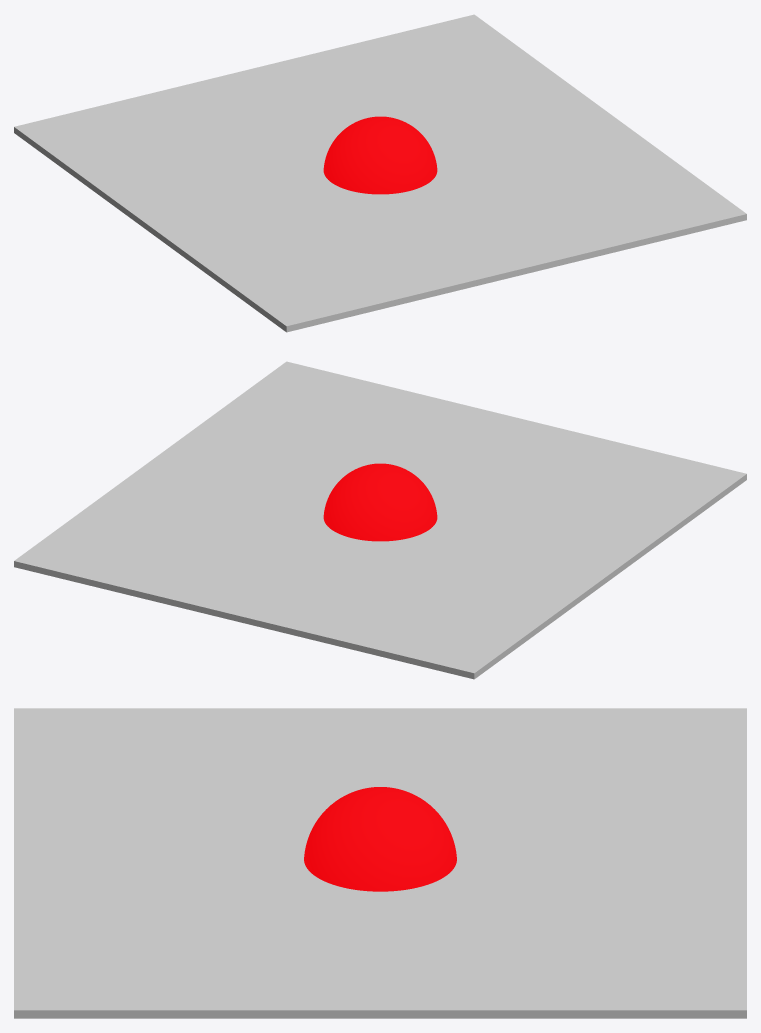
Rendered from Doom.glb.
The picture shows the model from 3 angles, top to bottom: view 1: azimuth 30°, elevation 25°; view 2: azimuth 150°, elevation 25°; view 3: azimuth 270°, elevation 25°; orthographic projection. The views are drawn at different scales.
Parts seen in each view (by area): view 1: Cube, Icosphere; view 2: Cube, Icosphere; view 3: Cube, Icosphere.
Boxes of the visible parts, x1,y1,x2,y2 form: Cube: (14, 14, 746, 332); Icosphere: (323, 116, 437, 194); Cube: (14, 361, 746, 679); Icosphere: (323, 463, 437, 541); Cube: (14, 708, 746, 1018); Icosphere: (304, 787, 456, 891).
Bounding box in the file's own units: 9.33 × 2 × 9.56.
